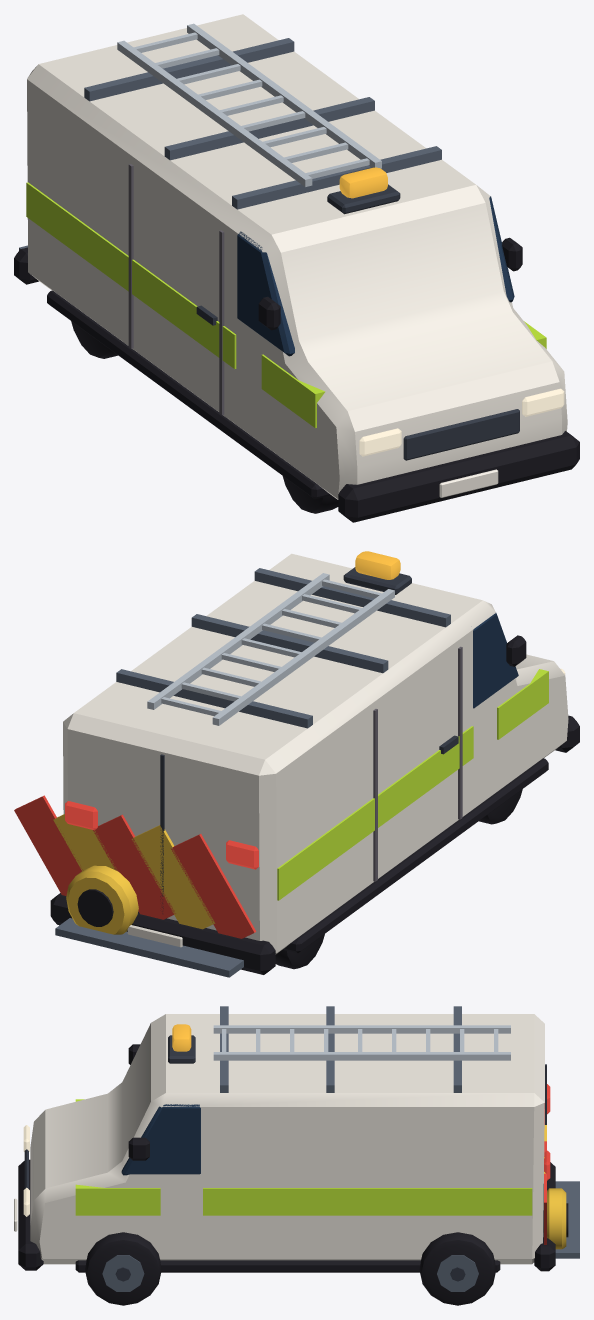
The model's file is buff_van.glb.
3 renders of one model, top to bottom at view 1: azimuth 30°, elevation 25°; view 2: azimuth 150°, elevation 25°; view 3: azimuth 270°, elevation 25°, orthographic. The views are drawn at different scales.
Visible parts, largest first — view 1: buff_van; view 2: buff_van; view 3: buff_van.
Part boxes in pixels (box(x1,y1,x2,y2)): buff_van: box(14, 14, 579, 522); buff_van: box(14, 551, 579, 977); buff_van: box(14, 1006, 579, 1305).
Size of the model in its own units: 2.46 by 2.36 by 5.33.
3 materials, 3 textured.
